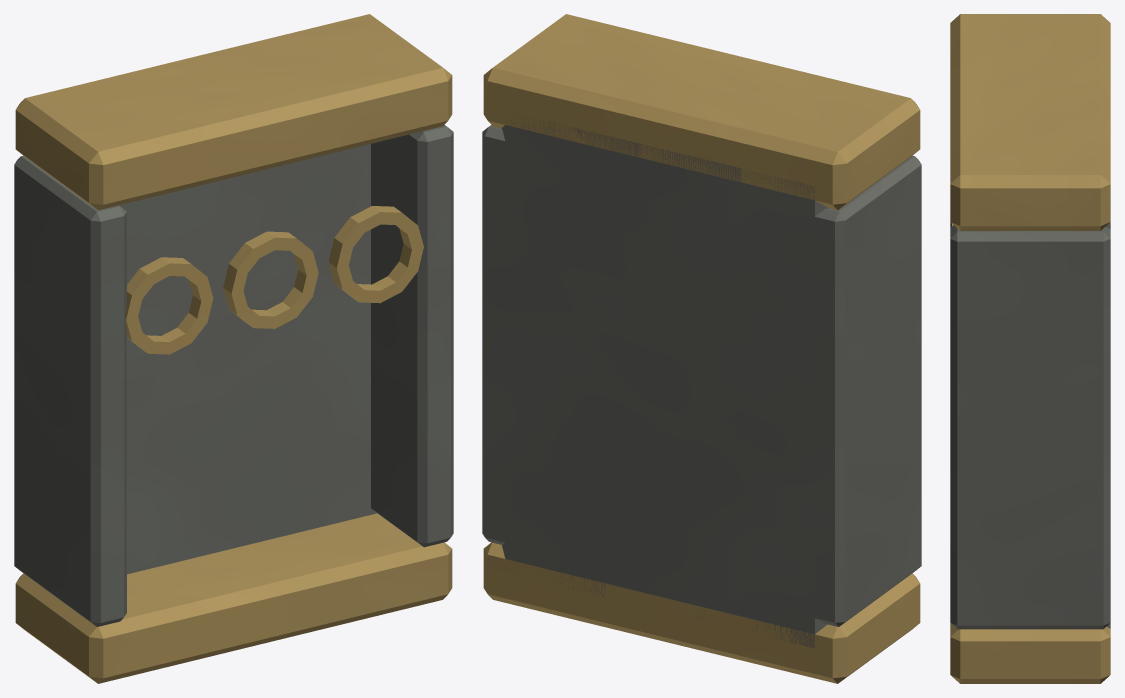
File: WarrensC_WVC029_BellkeeperPanelHousing_Mars_SM.fbx
The picture shows the model from 3 angles, left to right: view 1: azimuth 30°, elevation 25°; view 2: azimuth 150°, elevation 25°; view 3: azimuth 270°, elevation 25°; orthographic projection. The views are drawn at different scales.
Parts seen in each view (by area): view 1: WarrensC_WVC029_BellkeeperPanelHousing_Mars_SM.001; view 2: WarrensC_WVC029_BellkeeperPanelHousing_Mars_SM.001; view 3: WarrensC_WVC029_BellkeeperPanelHousing_Mars_SM.001.
Part boxes in pixels (box(x1,y1,x2,y2)): WarrensC_WVC029_BellkeeperPanelHousing_Mars_SM.001: box(14, 14, 453, 683); WarrensC_WVC029_BellkeeperPanelHousing_Mars_SM.001: box(482, 14, 921, 683); WarrensC_WVC029_BellkeeperPanelHousing_Mars_SM.001: box(950, 14, 1110, 683).
Size of the model in its own units: 100 by 40 by 140.
